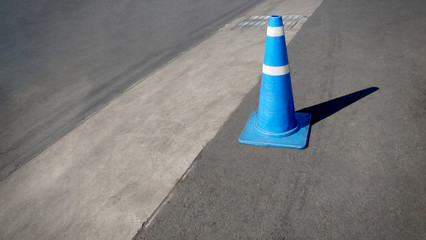cone: (237, 13, 315, 151)
